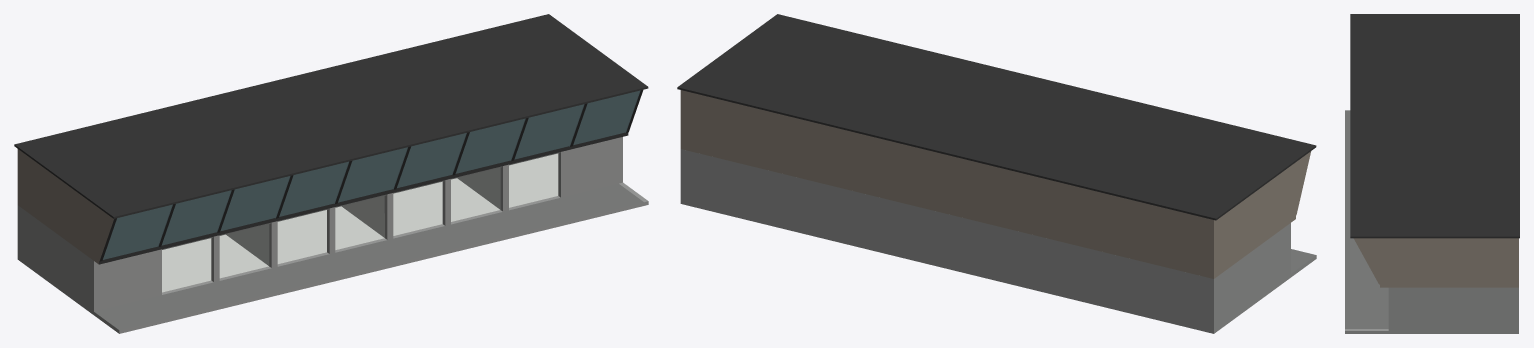
The model's file is Garage.fbx.
The picture shows the model from 3 angles, left to right: view 1: azimuth 30°, elevation 25°; view 2: azimuth 150°, elevation 25°; view 3: azimuth 270°, elevation 25°; orthographic projection. The views are drawn at different scales.
Parts seen in each view (by area): view 1: Garage; view 2: Garage; view 3: Garage.
Part boxes in pixels (x1,y1,x2,y2): Garage: (14,14,648,333); Garage: (677,14,1316,333); Garage: (1345,14,1519,333).
Size of the model in its own units: 60.6 by 12.49 by 20.09.
